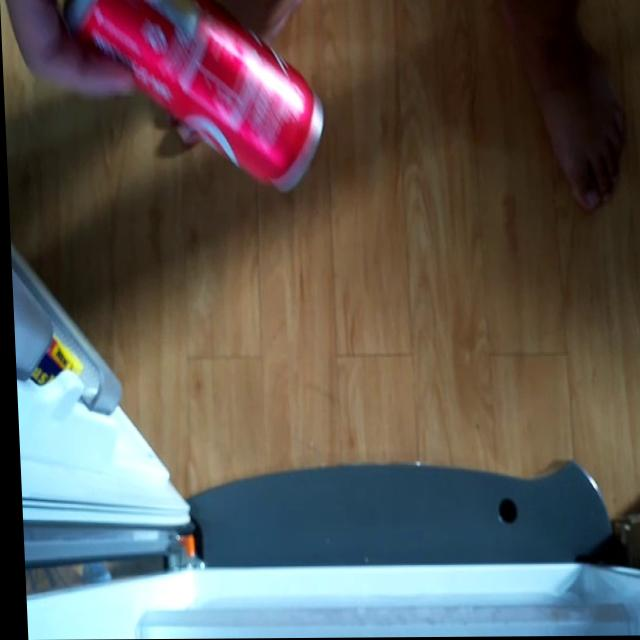coke: (62, 0, 325, 196)
